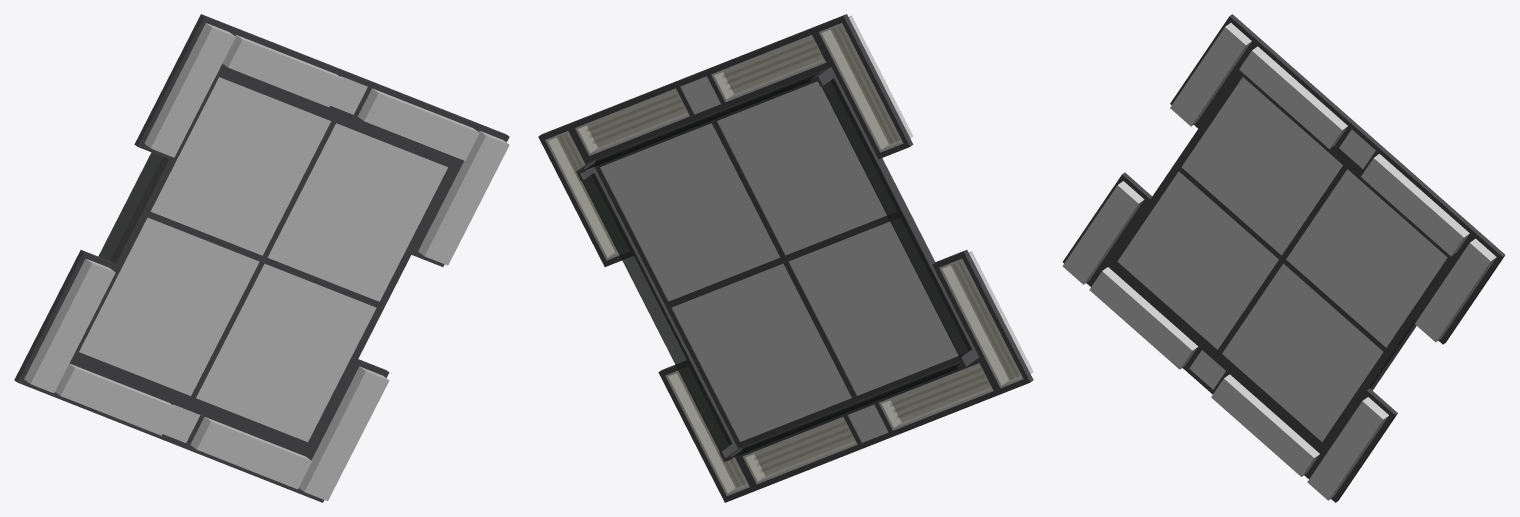
Rendered from TAV-Decke.obj.
3 views of the same model, side by side, from view 1: azimuth 30°, elevation 25°; view 2: azimuth 150°, elevation 25°; view 3: azimuth 330°, elevation 25° (orthographic). The views are drawn at different scales.
Visible parts, largest first — view 1: 03_DECKEN TEXTIL_STOFF__WEI_, 0_MT_3D FARBE__WEI_ FLAT_PART, 03_DECKEN METAL_-_STAINLESS_STEEL, 03_DECKEN FARBE__WEI_, 0_NEUBAU_GK-WAND_EI_90 GLAS; view 2: 03_DECKEN TEXTIL_STOFF__WEI_, 0_MT_3D FARBE__WEI_ FLAT_PART, 03_DECKEN METAL_-_STAINLESS_STEEL, 0_MT_3D GLAS_LEUCHTEND, 0_NEUBAU_GK-WAND_EI_90 GLAS, 0_NEUBAU_GK-WAND_EI_90 METAL_-_STAINLESS_STEEL, 0_MT_3D GDLM8_BUILTINMATLAMPBULB SMOOTH_PART, 03_DECKEN FARBE__WEI_; view 3: 03_DECKEN TEXTIL_STOFF__WEI_, 0_MT_3D FARBE__WEI_ FLAT_PART, 03_DECKEN METAL_-_STAINLESS_STEEL, 03_DECKEN FARBE__WEI_.
Part boxes in pixels (x1,y1,x2,y2): 03_DECKEN TEXTIL_STOFF__WEI_: (79, 77, 447, 441); 0_MT_3D FARBE__WEI_ FLAT_PART: (24, 23, 509, 501); 03_DECKEN METAL_-_STAINLESS_STEEL: (14, 14, 509, 502); 03_DECKEN FARBE__WEI_: (163, 76, 367, 442); 0_NEUBAU_GK-WAND_EI_90 GLAS: (98, 152, 162, 260); 03_DECKEN TEXTIL_STOFF__WEI_: (600, 81, 967, 441); 0_MT_3D FARBE__WEI_ FLAT_PART: (545, 15, 1033, 495); 03_DECKEN METAL_-_STAINLESS_STEEL: (538, 14, 1033, 502); 0_MT_3D GLAS_LEUCHTEND: (548, 25, 1021, 492); 0_NEUBAU_GK-WAND_EI_90 GLAS: (582, 74, 971, 457); 0_NEUBAU_GK-WAND_EI_90 METAL_-_STAINLESS_STEEL: (576, 67, 978, 461); 0_MT_3D GDLM8_BUILTINMATLAMPBULB SMOOTH_PART: (559, 26, 1017, 486); 03_DECKEN FARBE__WEI_: (680, 76, 888, 442); 03_DECKEN TEXTIL_STOFF__WEI_: (1117, 77, 1447, 441); 0_MT_3D FARBE__WEI_ FLAT_PART: (1062, 23, 1496, 500); 03_DECKEN METAL_-_STAINLESS_STEEL: (1063, 14, 1504, 502); 03_DECKEN FARBE__WEI_: (1189, 129, 1375, 389).
Bounding box in the file's own units: 519 × 520 × 42.
